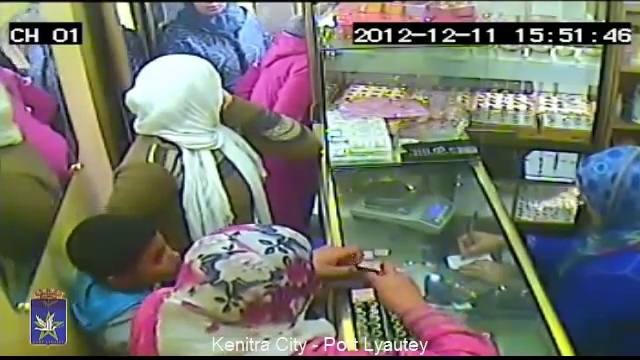face: (128, 224, 184, 283)
